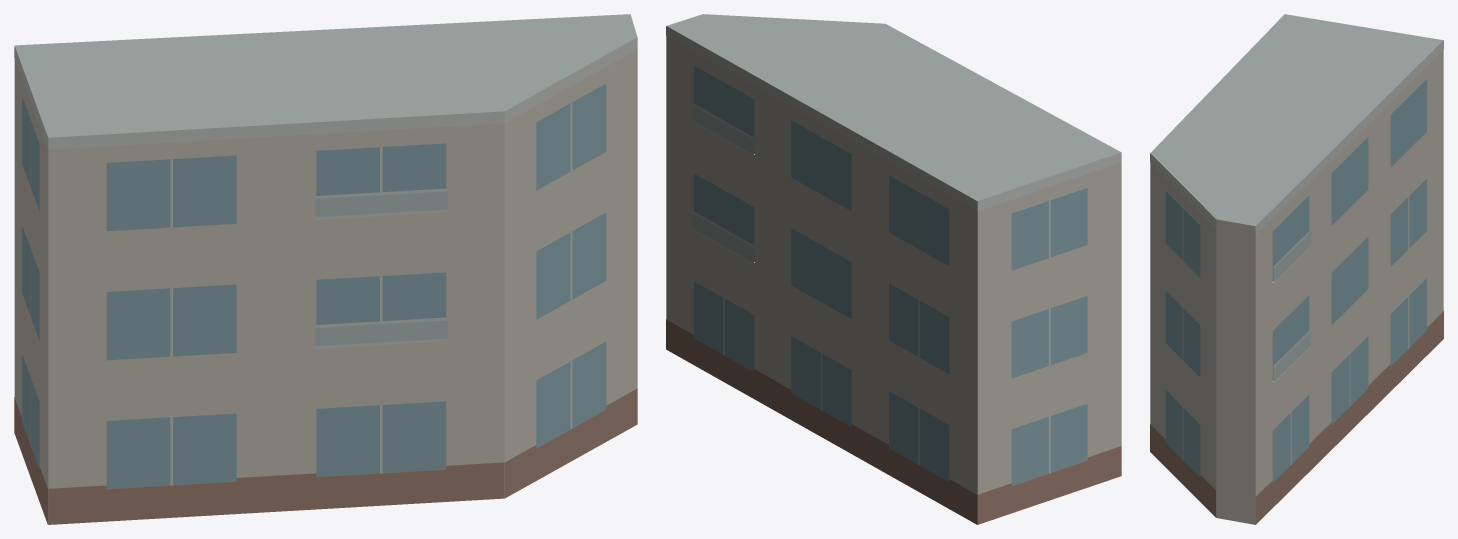
File: survey-upis-32991558.glb
The picture shows the model from 3 angles, left to right: view 1: azimuth 30°, elevation 25°; view 2: azimuth 150°, elevation 25°; view 3: azimuth 270°, elevation 25°; orthographic projection. The views are drawn at different scales.
Visible parts, largest first — view 1: survey-upis-32991558.tmp; view 2: survey-upis-32991558.tmp; view 3: survey-upis-32991558.tmp.
Part boxes in pixels (x1,y1,x2,y2): survey-upis-32991558.tmp: (14,14,637,524); survey-upis-32991558.tmp: (666,14,1121,524); survey-upis-32991558.tmp: (1150,14,1443,524).
Bounding box in the file's own units: 12.04 × 7.9 × 7.04.
